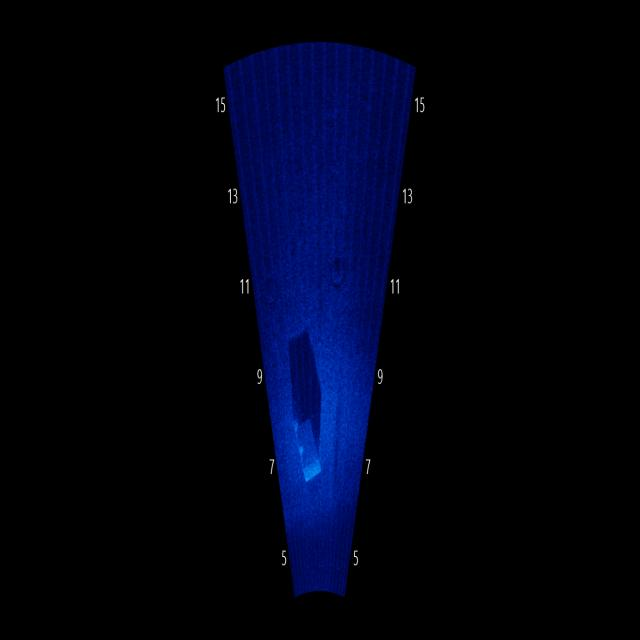square: (284, 396, 336, 498)
